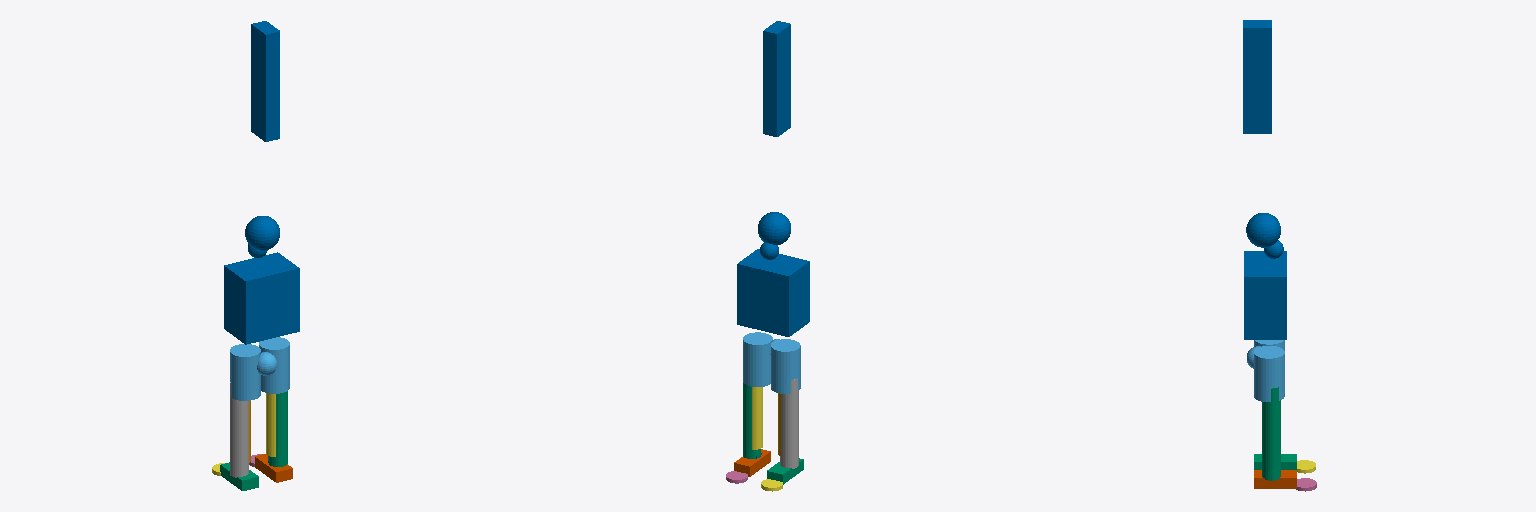
--- What the picture shows (computed from the rendered views, not written in the file) ---
3 views of the same robot in one strip: view 1: azimuth 30°, elevation 25°; view 2: azimuth 150°, elevation 25°; view 3: azimuth 270°, elevation 25° (orthographic).
Robot: model_generic — 23 links, 22 joints (17 revolute, 5 floating); root link ground; default pose: every joint at zero.
Links seen in each view (by area): view 1: torso, pelvis, femur_l, femur_r, tibia_r, calcn_r, calcn_l; view 2: torso, pelvis, femur_l, femur_r, tibia_r, calcn_r; view 3: torso, pelvis, femur_r, calcn_r.
Link boxes in pixels (bbox=[...]): torso: bbox=[224, 21, 299, 344]; pelvis: bbox=[230, 337, 289, 400]; femur_l: bbox=[230, 382, 248, 477]; femur_r: bbox=[268, 391, 287, 466]; tibia_r: bbox=[266, 393, 275, 456]; calcn_r: bbox=[255, 454, 292, 482]; calcn_l: bbox=[220, 462, 258, 490]; torso: bbox=[737, 21, 809, 336]; pelvis: bbox=[743, 332, 800, 393]; femur_l: bbox=[780, 378, 798, 468]; femur_r: bbox=[743, 383, 760, 458]; tibia_r: bbox=[752, 387, 762, 449]; calcn_r: bbox=[734, 449, 770, 476]; torso: bbox=[1243, 20, 1286, 339]; pelvis: bbox=[1247, 340, 1284, 401]; femur_r: bbox=[1262, 387, 1280, 480]; calcn_r: bbox=[1254, 470, 1296, 488].
Bounding box of the posed robot: 0.2878 × 0.3272 × 2.23 m (x, y, z).
Geometry: primitives only (box / cylinder / sphere), no mesh files.

URDF robot description (model_generic):
<?xml version="1.0" ?>

<robot name="model_generic"> 
    <gazebo>
        <plugin name="gazebo_ros_control" filename="libgazebo_ros_control.so">
            <robotNamespace>/model_generic</robotNamespace>
        </plugin>
    </gazebo>
 
    <link name="ground" /> 
 
    <link name="pelvis"> 
 
        <inertial> 
             <mass value="11.777"/> 
            <origin xyz="-0.00000000 -0.07070000  0.00000000" rpy="0 0 0" /> 
            <inertia ixx="0.1028" iyy="0.0871" izz="0.0579" ixy="0.0" ixz="0.0" iyz="0.0"/> 
        </inertial> 
 
        <visual name="sacrum"> 
            <origin xyz=" 0.00000889 -0.12485057  0.03677944" rpy=" 0.00000000  0.00000000  0.00000000" /> 
            <geometry> 
                <sphere radius="0.0528053343296051" /> 
            </geometry> 
        </visual> 
 
        <collision name="sacrum"> 
            <origin xyz=" 0.00000889 -0.12485057  0.03677944" rpy=" 0.00000000  0.00000000  0.00000000" /> 
            <geometry> 
                <sphere radius="0.0528053343296051" /> 
            </geometry> 
        </collision> 
 
        <visual name="pelvis"> 
            <origin xyz=" 0.07386850 -0.07562926 -0.00743482" rpy=" 0.00000000  0.00000000  0.00000000" /> 
            <geometry> 
                <cylinder radius="0.06901049613952637" length="0.21470201" /> 
            </geometry> 
        </visual> 
 
        <collision name="pelvis"> 
            <origin xyz=" 0.07386850 -0.07562926 -0.00743482" rpy=" 0.00000000  0.00000000  0.00000000" /> 
            <geometry> 
                <cylinder radius="0.06901049613952637" length="0.21470201" /> 
            </geometry> 
        </collision> 
 
        <visual name="l_pelvis"> 
            <origin xyz="-0.07386850 -0.07562925 -0.00743482" rpy=" 0.00000000  0.00000000  0.00000000" /> 
            <geometry> 
                <cylinder radius="0.06901049613952637" length="0.21470201" /> 
            </geometry> 
        </visual> 
 
        <collision name="l_pelvis"> 
            <origin xyz="-0.07386850 -0.07562925 -0.00743482" rpy=" 0.00000000  0.00000000  0.00000000" /> 
            <geometry> 
                <cylinder radius="0.06901049613952637" length="0.21470201" /> 
            </geometry> 
        </collision> 
 
    </link> 
 
    <link name="femur_r"> 
 
        <inertial> 
             <mass value="9.3014"/> 
            <origin xyz=" 0.00000000 -0.00000000 -0.17000000" rpy="0 0 0" /> 
            <inertia ixx="0.1339" iyy="0.0351" izz="0.1412" ixy="0.0" ixz="0.0" iyz="0.0"/> 
        </inertial> 
 
        <visual name="femur_r"> 
            <origin xyz=" 0.01594298  0.00497468 -0.20699716" rpy=" 0.00000000  0.00000000  0.00000000" /> 
            <geometry> 
                <cylinder radius="0.043163001537323" length="0.452616" /> 
            </geometry> 
        </visual> 
 
        <collision name="femur_r"> 
            <origin xyz=" 0.01594298  0.00497468 -0.20699716" rpy=" 0.00000000  0.00000000  0.00000000" /> 
            <geometry> 
                <cylinder radius="0.043163001537323" length="0.452616" /> 
            </geometry> 
        </collision> 
 
    </link> 
 
    <link name="tibia_r"> 
 
        <inertial> 
             <mass value="3.7075"/> 
            <origin xyz=" 0.00000000 -0.00000000 -0.18670000" rpy="0 0 0" /> 
            <inertia ixx="0.0504" iyy="0.0051" izz="0.0511" ixy="0.0" ixz="0.0" iyz="0.0"/> 
        </inertial> 
 
        <visual name="tibia_r"> 
            <origin xyz="-0.00346711  0.00744511 -0.18540447" rpy=" 0.00000000  0.00000000  0.00000000" /> 
            <geometry> 
                <cylinder radius="0.034585751593112946" length="0.386749" /> 
            </geometry> 
        </visual> 
 
        <collision name="tibia_r"> 
            <origin xyz="-0.00346711  0.00744511 -0.18540447" rpy=" 0.00000000  0.00000000  0.00000000" /> 
            <geometry> 
                <cylinder radius="0.034585751593112946" length="0.386749" /> 
            </geometry> 
        </collision> 
 
        <visual name="fibula"> 
            <origin xyz=" 0.03035371 -0.00401039 -0.23035097" rpy=" 0.00000000  0.00000000  0.00000000" /> 
            <geometry> 
                <cylinder radius="0.014540750533342361" length="0.375208" /> 
            </geometry> 
        </visual> 
 
        <collision name="fibula"> 
            <origin xyz=" 0.03035371 -0.00401039 -0.23035097" rpy=" 0.00000000  0.00000000  0.00000000" /> 
            <geometry> 
                <cylinder radius="0.014540750533342361" length="0.375208" /> 
            </geometry> 
        </collision> 
 
    </link> 
 
    <link name="talus_r"> 
 
        <inertial> 
             <mass value="0.1"/> 
            <origin xyz=" 0.00000000  0.00000000  0.00000000" rpy="0 0 0" /> 
            <inertia ixx="0.001" iyy="0.001" izz="0.001" ixy="0.0" ixz="0.0" iyz="0.0"/> 
        </inertial> 
 
        <visual name="talus"> 
            <origin xyz="-0.00168721  0.00594951  0.00035094" rpy=" 0.00000000  0.00000000  0.00000000" /> 
            <geometry> 
                <box size=" 0.0416  0.0458  0.0301" /> 
            </geometry> 
        </visual> 
 
        <collision name="talus"> 
            <origin xyz="-0.00168721  0.00594951  0.00035094" rpy=" 0.00000000  0.00000000  0.00000000" /> 
            <geometry> 
                <box size=" 0.0416  0.0458  0.0301" /> 
            </geometry> 
        </collision> 
 
    </link> 
 
    <link name="calcn_r"> 
 
        <inertial> 
             <mass value="1.25"/> 
            <origin xyz=" 0.00000000  0.10000000  0.03000000" rpy="0 0 0" /> 
            <inertia ixx="0.0014" iyy="0.0039" izz="0.0041" ixy="0.0" ixz="0.0" iyz="0.0"/> 
        </inertial> 
 
        <visual name="foot"> 
            <origin xyz="-0.00432009  0.07068449  0.01758767" rpy=" 0.00000000  0.00000000  0.00000000" /> 
            <geometry> 
                <box size=" 0.0849  0.1927  0.0529" /> 
            </geometry> 
        </visual> 
 
        <collision name="foot"> 
            <origin xyz="-0.00432009  0.07068449  0.01758767" rpy=" 0.00000000  0.00000000  0.00000000" /> 
            <geometry> 
                <box size=" 0.0849  0.1927  0.0529" /> 
            </geometry> 
        </collision> 
 
    </link> 
 
    <link name="toes_r"> 
 
        <inertial> 
             <mass value="0.2166"/> 
            <origin xyz="-0.01750000  0.03460000  0.00600000" rpy="0 0 0" /> 
            <inertia ixx="0.0001" iyy="0.0002" izz="0.0001" ixy="0.0" ixz="0.0" iyz="0.0"/> 
        </inertial> 
 
        <visual name="bofoot"> 
            <origin xyz="-0.00004618  0.02500000 -0.00304539" rpy=" 0.00000000  0.00000000  0.00000000" /> 
            <geometry> 
                <cylinder radius="0.05094899982213974" length="0.018185" /> 
            </geometry> 
        </visual> 
 
        <collision name="bofoot"> 
            <origin xyz="-0.00004618  0.02500000 -0.00304539" rpy=" 0.00000000  0.00000000  0.00000000" /> 
            <geometry> 
                <cylinder radius="0.05094899982213974" length="0.018185" /> 
            </geometry> 
        </collision> 
 
    </link> 
 
    <link name="femur_l"> 
 
        <inertial> 
             <mass value="9.3014"/> 
            <origin xyz=" 0.00000000 -0.00000000 -0.17000000" rpy="0 0 0" /> 
            <inertia ixx="0.1339" iyy="0.0351" izz="0.1412" ixy="0.0" ixz="0.0" iyz="0.0"/> 
        </inertial> 
 
        <visual name="femur_l"> 
            <origin xyz="-0.01594298  0.00497468 -0.20699715" rpy=" 0.00000000  0.00000000  0.00000000" /> 
            <geometry> 
                <cylinder radius="0.043163001537323" length="0.452616" /> 
            </geometry> 
        </visual> 
 
        <collision name="femur_l"> 
            <origin xyz="-0.01594298  0.00497468 -0.20699715" rpy=" 0.00000000  0.00000000  0.00000000" /> 
            <geometry> 
                <cylinder radius="0.043163001537323" length="0.452616" /> 
            </geometry> 
        </collision> 
 
    </link> 
 
    <link name="tibia_l"> 
 
        <inertial> 
             <mass value="3.7075"/> 
            <origin xyz=" 0.00000000 -0.00000000 -0.18670000" rpy="0 0 0" /> 
            <inertia ixx="0.0504" iyy="0.0051" izz="0.0511" ixy="0.0" ixz="0.0" iyz="0.0"/> 
        </inertial> 
 
        <visual name="tibia_l"> 
            <origin xyz=" 0.00346711  0.00744511 -0.18540446" rpy=" 0.00000000  0.00000000  0.00000000" /> 
            <geometry> 
                <cylinder radius="0.034585751593112946" length="0.386749" /> 
            </geometry> 
        </visual> 
 
        <collision name="tibia_l"> 
            <origin xyz=" 0.00346711  0.00744511 -0.18540446" rpy=" 0.00000000  0.00000000  0.00000000" /> 
            <geometry> 
                <cylinder radius="0.034585751593112946" length="0.386749" /> 
            </geometry> 
        </collision> 
 
        <visual name="l_fibula"> 
            <origin xyz="-0.03035371 -0.00401039 -0.23035097" rpy=" 0.00000000  0.00000000  0.00000000" /> 
            <geometry> 
                <cylinder radius="0.014540750533342361" length="0.375208" /> 
            </geometry> 
        </visual> 
 
        <collision name="l_fibula"> 
            <origin xyz="-0.03035371 -0.00401039 -0.23035097" rpy=" 0.00000000  0.00000000  0.00000000" /> 
            <geometry> 
                <cylinder radius="0.014540750533342361" length="0.375208" /> 
            </geometry> 
        </collision> 
 
    </link> 
 
    <link name="talus_l"> 
 
        <inertial> 
             <mass value="0.1"/> 
            <origin xyz=" 0.00000000  0.00000000  0.00000000" rpy="0 0 0" /> 
            <inertia ixx="0.001" iyy="0.001" izz="0.001" ixy="0.0" ixz="0.0" iyz="0.0"/> 
        </inertial> 
 
        <visual name="l_talus"> 
            <origin xyz=" 0.00168721  0.00594951  0.00035094" rpy=" 0.00000000  0.00000000  0.00000000" /> 
            <geometry> 
                <box size=" 0.0416  0.0461  0.0301" /> 
            </geometry> 
        </visual> 
 
        <collision name="l_talus"> 
            <origin xyz=" 0.00168721  0.00594951  0.00035094" rpy=" 0.00000000  0.00000000  0.00000000" /> 
            <geometry> 
                <box size=" 0.0416  0.0461  0.0301" /> 
            </geometry> 
        </collision> 
 
    </link> 
 
    <link name="calcn_l"> 
 
        <inertial> 
             <mass value="1.25"/> 
            <origin xyz=" 0.00000000  0.10000000  0.03000000" rpy="0 0 0" /> 
            <inertia ixx="0.0014" iyy="0.0039" izz="0.0041" ixy="0.0" ixz="0.0" iyz="0.0"/> 
        </inertial> 
 
        <visual name="l_foot"> 
            <origin xyz=" 0.00432009  0.07068449  0.01758767" rpy=" 0.00000000  0.00000000  0.00000000" /> 
            <geometry> 
                <box size=" 0.0849  0.1936  0.0529" /> 
            </geometry> 
        </visual> 
 
        <collision name="l_foot"> 
            <origin xyz=" 0.00432009  0.07068449  0.01758767" rpy=" 0.00000000  0.00000000  0.00000000" /> 
            <geometry> 
                <box size=" 0.0849  0.1936  0.0529" /> 
            </geometry> 
        </collision> 
 
    </link> 
 
    <link name="toes_l"> 
 
        <inertial> 
             <mass value="0.2166"/> 
            <origin xyz=" 0.01750000  0.03460000  0.00600000" rpy="0 0 0" /> 
            <inertia ixx="0.0001" iyy="0.0002" izz="0.0001" ixy="0.0" ixz="0.0" iyz="0.0"/> 
        </inertial> 
 
        <visual name="l_bofoot"> 
            <origin xyz="-0.00073217  0.02228543 -0.00115883" rpy=" 0.00000000  0.00000000  0.00000000" /> 
            <geometry> 
                <cylinder radius="0.05118675157427788" length="0.018185" /> 
            </geometry> 
        </visual> 
 
        <collision name="l_bofoot"> 
            <origin xyz="-0.00073217  0.02228543 -0.00115883" rpy=" 0.00000000  0.00000000  0.00000000" /> 
            <geometry> 
                <cylinder radius="0.05118675157427788" length="0.018185" /> 
            </geometry> 
        </collision> 
 
    </link> 
 
    <link name="torso"> 
 
        <inertial> 
             <mass value="34.2366"/> 
            <origin xyz="-0.00000000 -0.03000000  0.32000000" rpy="0 0 0" /> 
            <inertia ixx="1.4745" iyy="0.7555" izz="1.4314" ixy="0.0" ixz="0.0" iyz="0.0"/> 
        </inertial> 
 
        <visual name="hat_spine"> 
            <origin xyz=" 0.00026260 -0.02663700  1.33389564" rpy=" 0.00000000  0.00000000  0.00000000" /> 
            <geometry> 
                <box size=" 0.0751  0.1291  0.5249" /> 
            </geometry> 
        </visual> 
 
        <collision name="hat_spine"> 
            <origin xyz=" 0.00026260 -0.02663700  1.33389564" rpy=" 0.00000000  0.00000000  0.00000000" /> 
            <geometry> 
                <box size=" 0.0751  0.1291  0.5249" /> 
            </geometry> 
        </collision> 
 
        <visual name="hat_jaw"> 
            <origin xyz=" 0.00048531  0.04467935  0.49166154" rpy=" 0.00000000  0.00000000  0.00000000" /> 
            <geometry> 
                <sphere radius="0.0445866696536541" /> 
            </geometry> 
        </visual> 
 
        <collision name="hat_jaw"> 
            <origin xyz=" 0.00048531  0.04467935  0.49166154" rpy=" 0.00000000  0.00000000  0.00000000" /> 
            <geometry> 
                <sphere radius="0.0445866696536541" /> 
            </geometry> 
        </collision> 
 
        <visual name="hat_skull"> 
            <origin xyz="-0.00001850 -0.00029496  0.58343848" rpy=" 0.00000000  0.00000000  0.00000000" /> 
            <geometry> 
                <sphere radius="0.07807634025812149" /> 
            </geometry> 
        </visual> 
 
        <collision name="hat_skull"> 
            <origin xyz="-0.00001850 -0.00029496  0.58343848" rpy=" 0.00000000  0.00000000  0.00000000" /> 
            <geometry> 
                <sphere radius="0.07807634025812149" /> 
            </geometry> 
        </collision> 
 
        <visual name="hat_ribs"> 
            <origin xyz=" 0.00017963  0.00801860  0.26094778" rpy=" 0.00000000  0.00000000  0.00000000" /> 
            <geometry> 
                <box size=" 0.2758  0.1928  0.3097" /> 
            </geometry> 
        </visual> 
 
        <collision name="hat_ribs"> 
            <origin xyz=" 0.00017963  0.00801860  0.26094778" rpy=" 0.00000000  0.00000000  0.00000000" /> 
            <geometry> 
                <box size=" 0.2758  0.1928  0.3097" /> 
            </geometry> 
        </collision> 
 
    </link> 
 
    <joint name="ground_pelvis" type="floating"> 
 
        <origin xyz=" 0.00000000  0.00000000  0.00000000" rpy="0 0 0" /> 
        <parent link="ground"/> 
        <child link="pelvis"/> 
    </joint> 
 
    <link name="femur_r_f1"> 
 
        <inertial>
            <mass value="0.0001"/> 
            <origin xyz=" 0.00000000  0.00000000  0.00000000" rpy="0 0 0" /> 
            <inertia ixx="0.0003" iyy="0.0003" izz="0.0003" ixy="0.0" ixz="0.0" iyz="0.0"/> 
        </inertial> 
 
    </link> 
 
    <joint name="hip_r_RX" type="revolute"> 
 
        <origin xyz=" 0.08350000 -0.07070000 -0.06610000" rpy="0 0 0" /> 
        <parent link="pelvis"/> 
        <child link="femur_r_f1"/> 
        <axis xyz=" 1.00000000  0.00000000  0.00000000"/> 
        <limit effort="51.314990909090916" velocity="1.0" lower="-2.0943951" upper="2.0943951" /> 
 
    </joint> 
 
    <transmission name="trans_hip_r_RX">
        <type>transmission_interface/SimpleTransmission</type>
        <joint name="hip_r_RX">
            <hardwareInterface>EffortJointInterface</hardwareInterface>
        </joint>
        <actuator name="motor_hip_r_RX">
            <hardwareInterface>EffortJointInterface</hardwareInterface>
            <mechanicalReduction>1</mechanicalReduction>
        </actuator>
    </transmission>
 
    <link name="femur_r_f2"> 
 
        <inertial>
            <mass value="0.0001"/> 
            <origin xyz=" 0.00000000  0.00000000  0.00000000" rpy="0 0 0" /> 
            <inertia ixx="0.0003" iyy="0.0003" izz="0.0003" ixy="0.0" ixz="0.0" iyz="0.0"/> 
        </inertial> 
 
    </link> 
 
    <joint name="hip_r_RY" type="revolute"> 
 
        <origin xyz=" 0.00000000  0.00000000  0.00000000" rpy="0 0 0" /> 
        <parent link="femur_r_f1"/> 
        <child link="femur_r_f2"/> 
        <axis xyz=" 0.00000000  1.00000000  0.00000000"/> 
        <limit effort="23.648" velocity="1.0" lower="-2.0943951" upper="2.0943951" /> 
 
    </joint> 
 
    <transmission name="trans_hip_r_RY">
        <type>transmission_interface/SimpleTransmission</type>
        <joint name="hip_r_RY">
            <hardwareInterface>EffortJointInterface</hardwareInterface>
        </joint>
        <actuator name="motor_hip_r_RY">
            <hardwareInterface>EffortJointInterface</hardwareInterface>
            <mechanicalReduction>1</mechanicalReduction>
        </actuator>
    </transmission>
 
    <joint name="hip_r_RZ" type="revolute"> 
 
        <origin xyz=" 0.00000000  0.00000000  0.00000000" rpy="0 0 0" /> 
        <parent link="femur_r_f2"/> 
        <child link="femur_r"/> 
        <axis xyz=" 0.00000000  0.00000000  1.00000000"/> 
        <limit effort="23.648" velocity="1.0" lower="-2.0943951" upper="2.0943951" /> 
 
    </joint> 
 
    <transmission name="trans_hip_r_RZ">
        <type>transmission_interface/SimpleTransmission</type>
        <joint name="hip_r_RZ">
            <hardwareInterface>EffortJointInterface</hardwareInterface>
        </joint>
        <actuator name="motor_hip_r_RZ">
            <hardwareInterface>EffortJointInterface</hardwareInterface>
            <mechanicalReduction>1</mechanicalReduction>
        </actuator>
    </transmission>
 
    <link name="tibia_r_f1"> 
 
        <inertial>
            <mass value="0.0001"/> 
            <origin xyz=" 0.00000000  0.00000000  0.00000000" rpy="0 0 0" /> 
            <inertia ixx="0.0003" iyy="0.0003" izz="0.0003" ixy="0.0" ixz="0.0" iyz="0.0"/> 
        </inertial> 
 
    </link> 
 
    <joint name="knee_r_RX" type="revolute"> 
 
        <origin xyz=" 0.00000000  0.00000000  0.00000000" rpy="0 0 0" /> 
        <parent link="femur_r"/> 
        <child link="tibia_r_f1"/> 
        <axis xyz=" 1.00000000  0.00000000  0.00000000"/> 
        <limit effort="80.78233333333333" velocity="1.0" lower="-2.0943951" upper="0.17453293" /> 
 
    </joint> 
 
    <transmission name="trans_knee_r_RX">
        <type>transmission_interface/SimpleTransmission</type>
        <joint name="knee_r_RX">
            <hardwareInterface>EffortJointInterface</hardwareInterface>
        </joint>
        <actuator name="motor_knee_r_RX">
            <hardwareInterface>EffortJointInterface</hardwareInterface>
            <mechanicalReduction>1</mechanicalReduction>
        </actuator>
    </transmission>
 
    <link name="tibia_r_f2"> 
 
        <inertial>
            <mass value="0.0001"/> 
            <origin xyz=" 0.00000000  0.00000000  0.00000000" rpy="0 0 0" /> 
            <inertia ixx="0.0003" iyy="0.0003" izz="0.0003" ixy="0.0" ixz="0.0" iyz="0.0"/> 
        </inertial> 
 
    </link> 
 
    <joint name="knee_r_RZ" type="revolute"> 
 
        <origin xyz=" 0.00000000  0.00000000  0.00000000" rpy="0 0 0" /> 
        <parent link="tibia_r_f1"/> 
        <child link="tibia_r_f2"/> 
        <axis xyz=" 0.00000000  0.00000000  1.00000000"/> 
        <limit effort="23.648" velocity="1.0" lower="-2.0943951" upper="0.17453293" /> 
 
    </joint> 
 
    <transmission name="trans_knee_r_RZ">
        <type>transmission_interface/SimpleTransmission</type>
        <joint name="knee_r_RZ">
            <hardwareInterface>EffortJointInterface</hardwareInterface>
        </joint>
        <actuator name="motor_knee_r_RZ">
            <hardwareInterface>EffortJointInterface</hardwareInterface>
            <mechanicalReduction>1</mechanicalReduction>
        </actuator>
    </transmission>
 
    <joint name="knee_r_RY" type="revolute"> 
 
        <origin xyz=" 0.00000000  0.00000000  0.00000000" rpy="0 0 0" /> 
        <parent link="tibia_r_f2"/> 
        <child link="tibia_r"/> 
        <axis xyz=" 0.00000000  1.00000000  0.00000000"/> 
        <limit effort="23.648" velocity="1.0" lower="-2.0943951" upper="0.17453293" /> 
 
    </joint> 
 
    <transmission name="trans_knee_r_RY">
        <type>transmission_interface/SimpleTransmission</type>
        <joint name="knee_r_RY">
            <hardwareInterface>EffortJointInterface</hardwareInterface>
        </joint>
        <actuator name="motor_knee_r_RY">
            <hardwareInterface>EffortJointInterface</hardwareInterface>
            <mechanicalReduction>1</mechanicalReduction>
        </actuator>
    </transmission>
 
    <joint name="ankle_r" type="revolute"> 
 
        <origin xyz=" 0.00000000 -0.00000000 -0.43000000" rpy="0 0 0" /> 
        <parent link="tibia_r"/> 
        <child link="talus_r"/> 
        <axis xyz=" 0.97912632 -0.10501355 -0.17402245"/> 
        <limit effort="23.648" velocity="1.0" lower="-1.57079633" upper="1.57079633" /> 
 
    </joint> 
 
    <transmission name="trans_ankle_r">
        <type>transmission_interface/SimpleTransmission</type>
        <joint name="ankle_r">
            <hardwareInterface>EffortJointInterface</hardwareInterface>
        </joint>
        <actuator name="motor_ankle_r">
            <hardwareInterface>EffortJointInterface</hardwareInterface>
            <mechanicalReduction>1</mechanicalReduction>
        </actuator>
    </transmission>
 
    <joint name="subtalar_r" type="floating"> 
 
        <origin xyz=" 0.00792000 -0.04877000 -0.04195000" rpy="0 0 0" /> 
        <parent link="talus_r"/> 
        <child link="calcn_r"/> 
    </joint> 
 
    <joint name="mtp_r" type="floating"> 
 
        <origin xyz=" 0.00108000  0.17880000 -0.00200000" rpy="0 0 0" /> 
        <parent link="calcn_r"/> 
        <child link="toes_r"/> 
    </joint> 
 
    <link name="femur_l_f1"> 
 
        <inertial>
            <mass value="0.0001"/> 
            <origin xyz=" 0.00000000  0.00000000  0.00000000" rpy="0 0 0" /> 
            <inertia ixx="0.0003" iyy="0.0003" izz="0.0003" ixy="0.0" ixz="0.0" iyz="0.0"/> 
        </inertial> 
 
    </link> 
 
    <joint name="hip_l_RX" type="revolute"> 
 
        <origin xyz="-0.08350000 -0.07070000 -0.06610000" rpy="0 0 0" /> 
        <parent link="pelvis"/> 
        <child link="femur_l_f1"/> 
        <axis xyz=" 1.00000000  0.00000000  0.00000000"/> 
        <limit effort="51.314990909090916" velocity="1.0" lower="-2.0943951" upper="2.0943951" /> 
 
    </joint> 
 
    <transmission name="trans_hip_l_RX">
        <type>transmission_interface/SimpleTransmission</type>
        <joint name="hip_l_RX">
            <hardwareInterface>EffortJointInterface</hardwareInterface>
        </joint>
        <actuator name="motor_hip_l_RX">
            <hardwareInterface>EffortJointInterface</hardwareInterface>
            <mechanicalReduction>1</mechanicalReduction>
        </actuator>
    </transmission>
 
    <link name="femur_l_f2"> 
 
        <inertial>
            <mass value="0.0001"/> 
            <origin xyz=" 0.00000000  0.00000000  0.00000000" rpy="0 0 0" /> 
            <inertia ixx="0.0003" iyy="0.0003" izz="0.0003" ixy="0.0" ixz="0.0" iyz="0.0"/> 
        </inertial> 
 
    </link> 
 
    <joint name="hip_l_RY" type="revolute"> 
 
        <origin xyz=" 0.00000000  0.00000000  0.00000000" rpy="0 0 0" /> 
        <parent link="femur_l_f1"/> 
        <child link="femur_l_f2"/> 
        <axis xyz=" 0.00000000 -1.00000000  0.00000000"/> 
        <limit effort="23.648" velocity="1.0" lower="-2.0943951" upper="2.0943951" /> 
 
    </joint> 
 
    <transmission name="trans_hip_l_RY">
        <type>transmission_interface/SimpleTransmission</type>
        <joint name="hip_l_RY">
            <hardwareInterface>EffortJointInterface</hardwareInterface>
        </joint>
        <actuator name="motor_hip_l_RY">
            <hardwareInterface>EffortJointInterface</hardwareInterface>
            <mechanicalReduction>1</mechanicalReduction>
        </actuator>
    </transmission>
 
    <joint name="hip_l_RZ" type="revolute"> 
 
        <origin xyz=" 0.00000000  0.00000000  0.00000000" rpy="0 0 0" /> 
        <parent link="femur_l_f2"/> 
        <child link="femur_l"/> 
        <axis xyz=" 0.00000000  0.00000000 -1.00000000"/> 
        <limit effort="23.648" velocity="1.0" lower="-2.0943951" upper="2.0943951" /> 
 
    </joint> 
 
    <transmission name="trans_hip_l_RZ">
        <type>transmission_interface/SimpleTransmission</type>
        <joint name="hip_l_RZ">
            <hardwareInterface>EffortJointInterface</hardwareInterface>
        </joint>
        <actuator name="motor_hip_l_RZ">
            <hardwareInterface>EffortJointInterface</hardwareInterface>
            <mechanicalReduction>1</mechanicalReduction>
        </actuator>
    </transmission>
 
    <link name="tibia_l_f1"> 
 
        <inertial>
            <mass value="0.0001"/> 
            <origin xyz=" 0.00000000  0.00000000  0.00000000" rpy="0 0 0" /> 
            <inertia ixx="0.0003" iyy="0.0003" izz="0.0003" ixy="0.0" ixz="0.0" iyz="0.0"/> 
        </inertial> 
 
    </link> 
 
    <joint name="knee_l_RX" type="revolute"> 
 
        <origin xyz=" 0.00000000  0.00000000  0.00000000" rpy="0 0 0" /> 
        <parent link="femur_l"/> 
        <child link="tibia_l_f1"/> 
        <axis xyz=" 1.00000000  0.00000000  0.00000000"/> 
        <limit effort="80.78233333333333" velocity="1.0" lower="-2.0943951" upper="0.17453293" /> 
 
    </joint> 
 
    <transmission name="trans_knee_l_RX">
        <type>transmission_interface/SimpleTransmission</type>
        <joint name="knee_l_RX">
            <hardwareInterface>EffortJointInterface</hardwareInterface>
        </joint>
        <actuator name="motor_knee_l_RX">
            <hardwareInterface>EffortJointInterface</hardwareInterface>
            <mechanicalReduction>1</mechanicalReduction>
        </actuator>
    </transmission>
 
    <link name="tibia_l_f2"> 
 
        <inertial>
            <mass value="0.0001"/> 
            <origin xyz=" 0.00000000  0.00000000  0.00000000" rpy="0 0 0" /> 
            <inertia ixx="0.0003" iyy="0.0003" izz="0.0003" ixy="0.0" ixz="0.0" iyz="0.0"/> 
        </inertial> 
 
    </link> 
 
    <joint name="knee_l_RZ" type="revolute"> 
 
        <origin xyz=" 0.00000000  0.00000000  0.00000000" rpy="0 0 0" /> 
        <parent link="tibia_l_f1"/> 
        <child link="tibia_l_f2"/> 
        <axis xyz=" 0.00000000  0.00000000  1.00000000"/> 
        <limit effort="23.648" velocity="1.0" lower="-2.0943951" upper="0.17453293" /> 
 
    </joint> 
 
    <transmission name="trans_knee_l_RZ">
        <type>transmission_interface/SimpleTransmission</type>
        <joint name="knee_l_RZ">
            <hardwareInterface>EffortJointInterface</hardwareInterface>
        </joint>
        <actuator name="motor_knee_l_RZ">
            <hardwareInterface>EffortJointInterface</hardwareInterface>
            <mechanicalReduction>1</mechanicalReduction>
        </actuator>
    </transmission>
 
    <joint name="knee_l_RY" type="revolute"> 
 
        <origin xyz=" 0.00000000  0.00000000  0.00000000" rpy="0 0 0" /> 
        <parent link="tibia_l_f2"/> 
        <child link="tibia_l"/> 
        <axis xyz=" 0.00000000  1.00000000  0.00000000"/> 
        <limit effort="23.648" velocity="1.0" lower="-2.0943951" upper="0.17453293" /> 
 
    </joint> 
 
    <transmission name="trans_knee_l_RY">
        <type>transmission_interface/SimpleTransmission</type>
        <joint name="knee_l_RY">
            <hardwareInterface>EffortJointInterface</hardwareInterface>
        </joint>
        <actuator name="motor_knee_l_RY">
            <hardwareInterface>EffortJointInterface</hardwareInterface>
            <mechanicalReduction>1</mechanicalReduction>
        </actuator>
    </transmission>
 
    <joint name="ankle_l" type="revolute"> 
 
        <origin xyz=" 0.00000000 -0.00000000 -0.43000000" rpy="0 0 0" /> 
        <parent link="tibia_l"/> 
        <child link="talus_l"/> 
        <axis xyz=" 0.97912632  0.10501355  0.17402245"/> 
        <limit effort="23.648" velocity="1.0" lower="-1.57079633" upper="1.57079633" /> 
 
    </joint> 
 
    <transmission name="trans_ankle_l">
        <type>transmission_interface/SimpleTransmission</type>
        <joint name="ankle_l">
            <hardwareInterface>EffortJointInterface</hardwareInterface>
        </joint>
        <actuator name="motor_ankle_l">
            <hardwareInterface>EffortJointInterface</hardwareInterface>
            <mechanicalReduction>1</mechanicalReduction>
        </actuator>
    </transmission>
 
    <joint name="subtalar_l" type="floating"> 
 
        <origin xyz="-0.00792000 -0.04877000 -0.04195000" rpy="0 0 0" /> 
        <parent link="talus_l"/> 
        <child link="calcn_l"/> 
    </joint> 
 
    <joint name="mtp_l" type="floating"> 
 
        <origin xyz="-0.00108000  0.17880000 -0.00200000" rpy="0 0 0" /> 
        <parent link="calcn_l"/> 
        <child link="toes_l"/> 
    </joint> 
 
    <link name="torso_f1"> 
 
        <inertial>
            <mass value="0.0001"/> 
            <origin xyz=" 0.00000000  0.00000000  0.00000000" rpy="0 0 0" /> 
            <inertia ixx="0.0003" iyy="0.0003" izz="0.0003" ixy="0.0" ixz="0.0" iyz="0.0"/> 
        </inertial> 
 
    </link> 
 
    <joint name="back_RX" type="revolute"> 
 
        <origin xyz="-0.00000000 -0.10070000  0.08150000" rpy="0 0 0" /> 
        <parent link="pelvis"/> 
        <child link="torso_f1"/> 
        <axis xyz=" 1.00000000  0.00000000  0.00000000"/> 
        <limit effort="166.0" velocity="1.0" lower="-1.57079633" upper="1.57079633" /> 
 
    </joint> 
 
    <transmission name="trans_back_RX">
        <type>transmission_interface/SimpleTransmission</type>
        <joint name="back_RX">
            <hardwareInterface>EffortJointInterface</hardwareInterface>
        </joint>
        <actuator name="motor_back_RX">
            <hardwareInterface>EffortJointInterface</hardwareInterface>
            <mechanicalReduction>1</mechanicalReduction>
        </actuator>
    </transmission>
 
    <link name="torso_f2"> 
 
        <inertial>
            <mass value="0.0001"/> 
            <origin xyz=" 0.00000000  0.00000000  0.00000000" rpy="0 0 0" /> 
            <inertia ixx="0.0003" iyy="0.0003" izz="0.0003" ixy="0.0" ixz="0.0" iyz="0.0"/> 
        </inertial> 
 
    </link> 
 
    <joint name="back_RY" type="revolute"> 
 
        <origin xyz=" 0.00000000  0.00000000  0.00000000" rpy="0 0 0" /> 
        <parent link="torso_f1"/> 
        <child link="torso_f2"/> 
        <axis xyz=" 0.00000000  1.00000000  0.00000000"/> 
        <limit effort="23.648" velocity="1.0" lower="-1.57079633" upper="1.57079633" /> 
 
    </joint> 
 
    <transmission name="trans_back_RY">
        <type>transmission_interface/SimpleTransmission</type>
        <joint name="back_RY">
            <hardwareInterface>EffortJointInterface</hardwareInterface>
        </joint>
        <actuator name="motor_back_RY">
            <hardwareInterface>EffortJointInterface</hardwareInterface>
            <mechanicalReduction>1</mechanicalReduction>
        </actuator>
    </transmission>
 
    <joint name="back_RZ" type="revolute"> 
 
        <origin xyz=" 0.00000000  0.00000000  0.00000000" rpy="0 0 0" /> 
        <parent link="torso_f2"/> 
        <child link="torso"/> 
        <axis xyz=" 0.00000000  0.00000000  1.00000000"/> 
        <limit effort="23.648" velocity="1.0" lower="-1.57079633" upper="1.57079633" /> 
 
    </joint> 
 
    <transmission name="trans_back_RZ">
        <type>transmission_interface/SimpleTransmission</type>
        <joint name="back_RZ">
            <hardwareInterface>EffortJointInterface</hardwareInterface>
        </joint>
        <actuator name="motor_back_RZ">
            <hardwareInterface>EffortJointInterface</hardwareInterface>
            <mechanicalReduction>1</mechanicalReduction>
        </actuator>
    </transmission>
 
</robot> 
